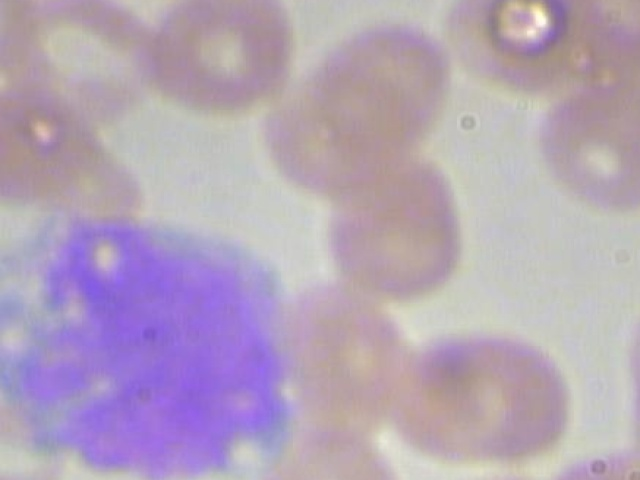RBC: (413, 316, 582, 464), (310, 146, 479, 294), (264, 60, 433, 208), (138, 0, 307, 117), (529, 72, 640, 220), (436, 0, 586, 101), (0, 82, 100, 210), (252, 410, 406, 480), (0, 0, 37, 94)
WBC: (0, 192, 310, 480)
